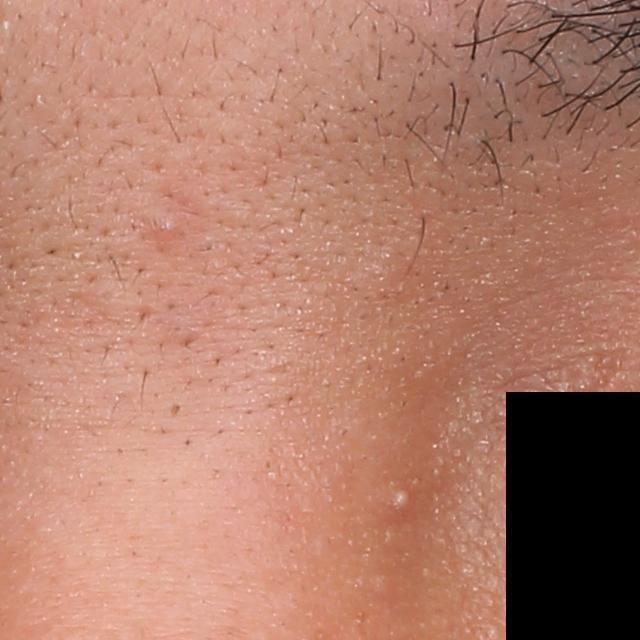comedo: (145, 204, 181, 246)
pustule: (389, 487, 411, 512)
